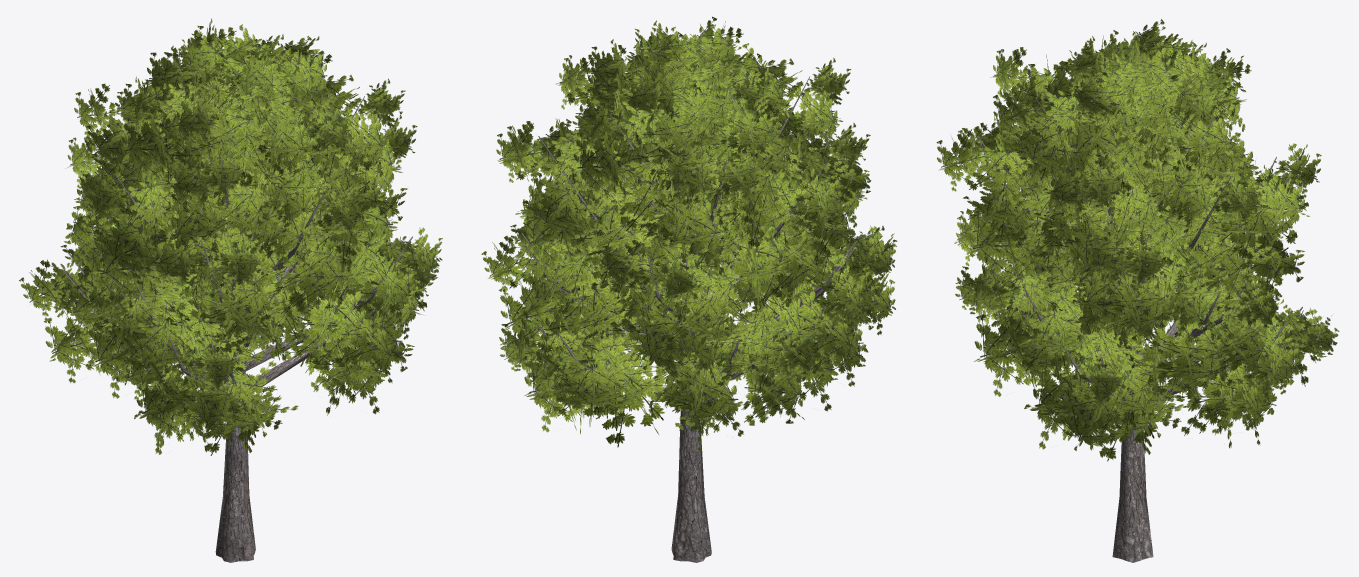
3 views of the same model, side by side, from view 1: azimuth 30°, elevation 25°; view 2: azimuth 150°, elevation 25°; view 3: azimuth 270°, elevation 25° (orthographic).
Parts seen in each view (by area): view 1: tree6_bark_0.012; view 2: tree6_bark_0.012; view 3: tree6_bark_0.012.
Boxes of the visible parts, bbox=[...] form: tree6_bark_0.012: bbox=[19, 18, 442, 562]; tree6_bark_0.012: bbox=[481, 16, 897, 562]; tree6_bark_0.012: bbox=[936, 19, 1339, 562].
Size of the model in its own units: 0.6151 by 0.8413 by 0.6035.
Materials: 2 (2 with a texture image).
